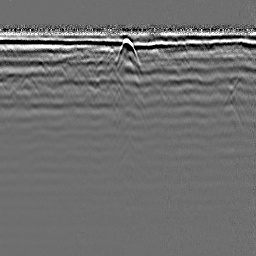cavity: (114, 35, 142, 67)
